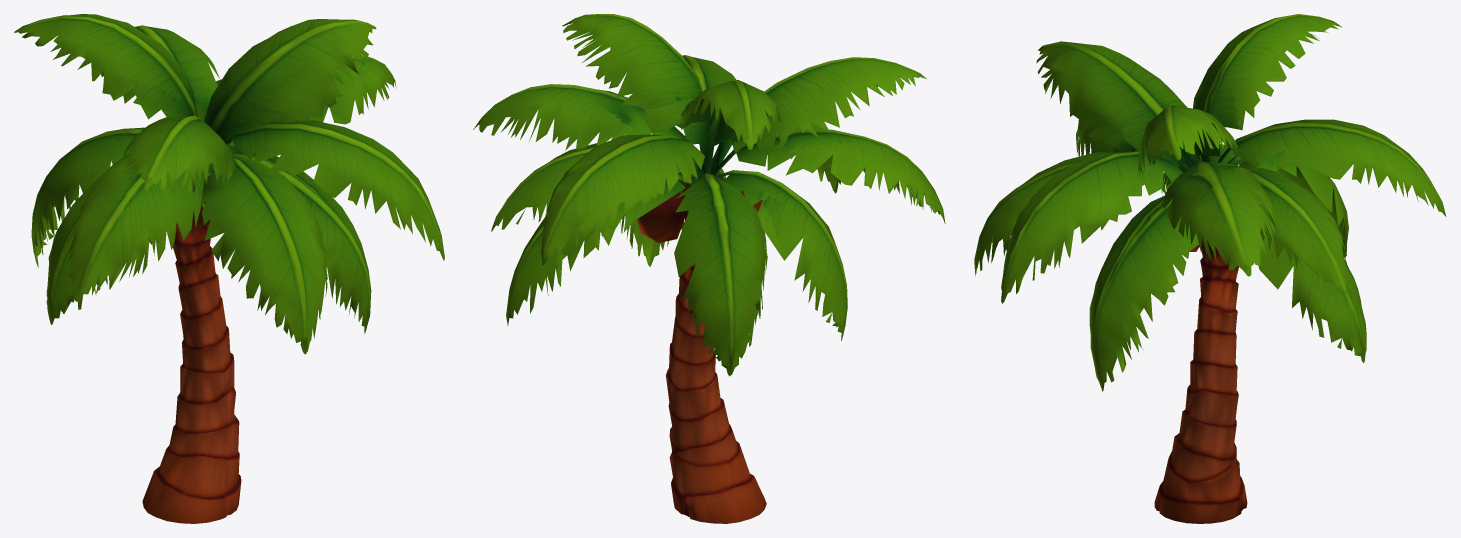
Rendered from 019f9d3b-ed76-7b27-9bdf-44e4fc4950da.glb.
3 views of the same model, side by side, from view 1: azimuth 30°, elevation 25°; view 2: azimuth 150°, elevation 25°; view 3: azimuth 270°, elevation 25° (orthographic). The views are drawn at different scales.
Visible parts, largest first — view 1: tripo_node_f62e1311-50c6-4570-905c-4d1a0cf0cdcf; view 2: tripo_node_f62e1311-50c6-4570-905c-4d1a0cf0cdcf; view 3: tripo_node_f62e1311-50c6-4570-905c-4d1a0cf0cdcf.
Part boxes in pixels (x1,y1,x2,y2): tripo_node_f62e1311-50c6-4570-905c-4d1a0cf0cdcf: (14, 14, 444, 523); tripo_node_f62e1311-50c6-4570-905c-4d1a0cf0cdcf: (473, 14, 945, 523); tripo_node_f62e1311-50c6-4570-905c-4d1a0cf0cdcf: (974, 14, 1446, 523).
Size of the model in its own units: 0.8943 by 1 by 0.9374.
1 material, 1 textured.
